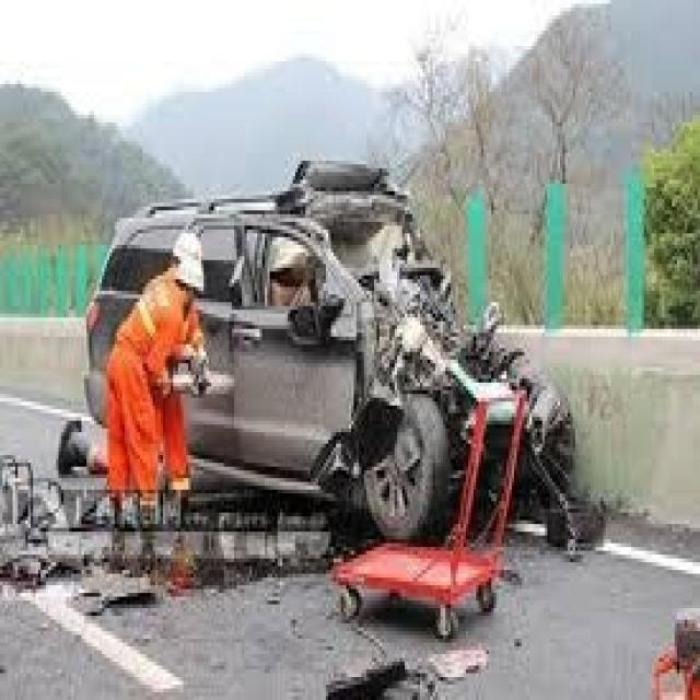Accident: (224, 177, 589, 549)
